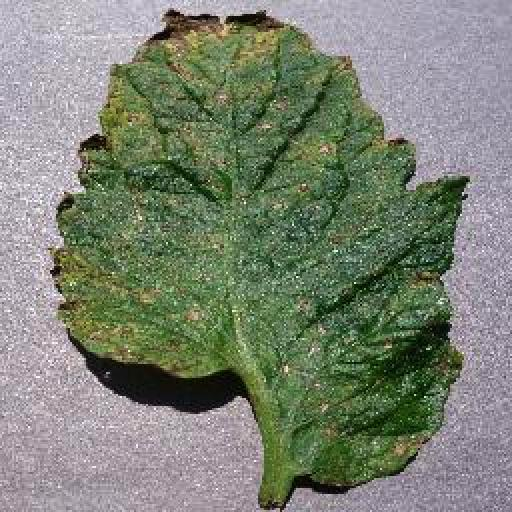disease_tomato: (52, 10, 466, 486)
